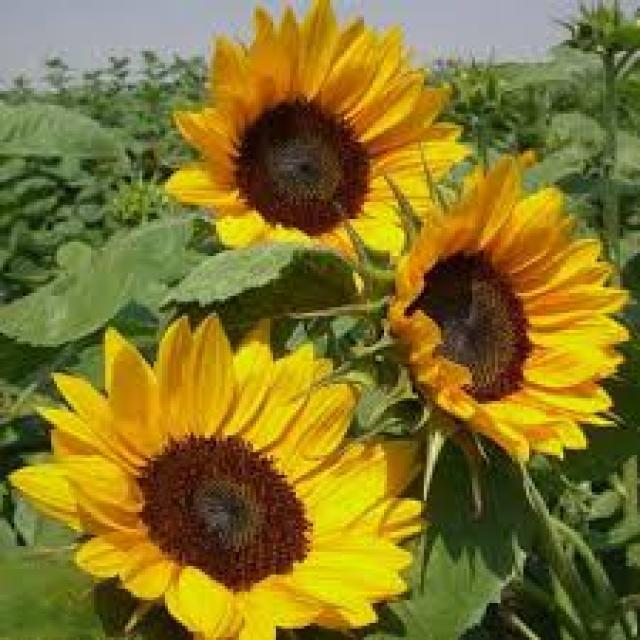sunflower: (6, 313, 427, 637), (162, 0, 472, 265), (384, 152, 632, 464)
